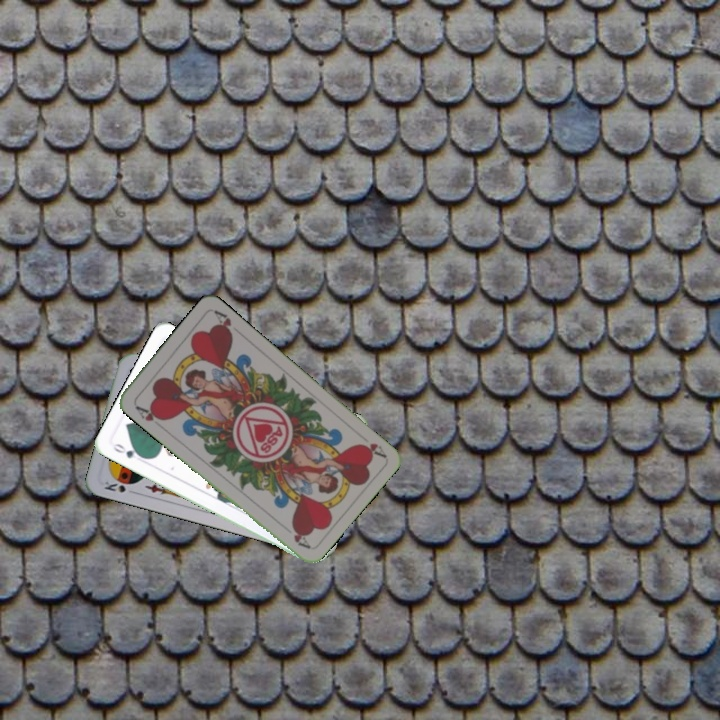GO: (109, 439, 148, 461)
HA: (131, 401, 167, 424), (355, 439, 388, 460)
SK: (100, 477, 139, 497)
